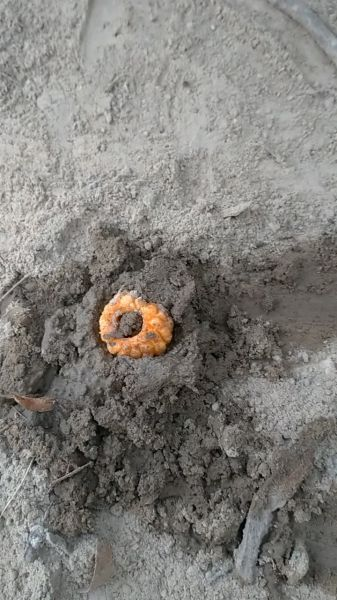eggs: (93, 287, 180, 363)
